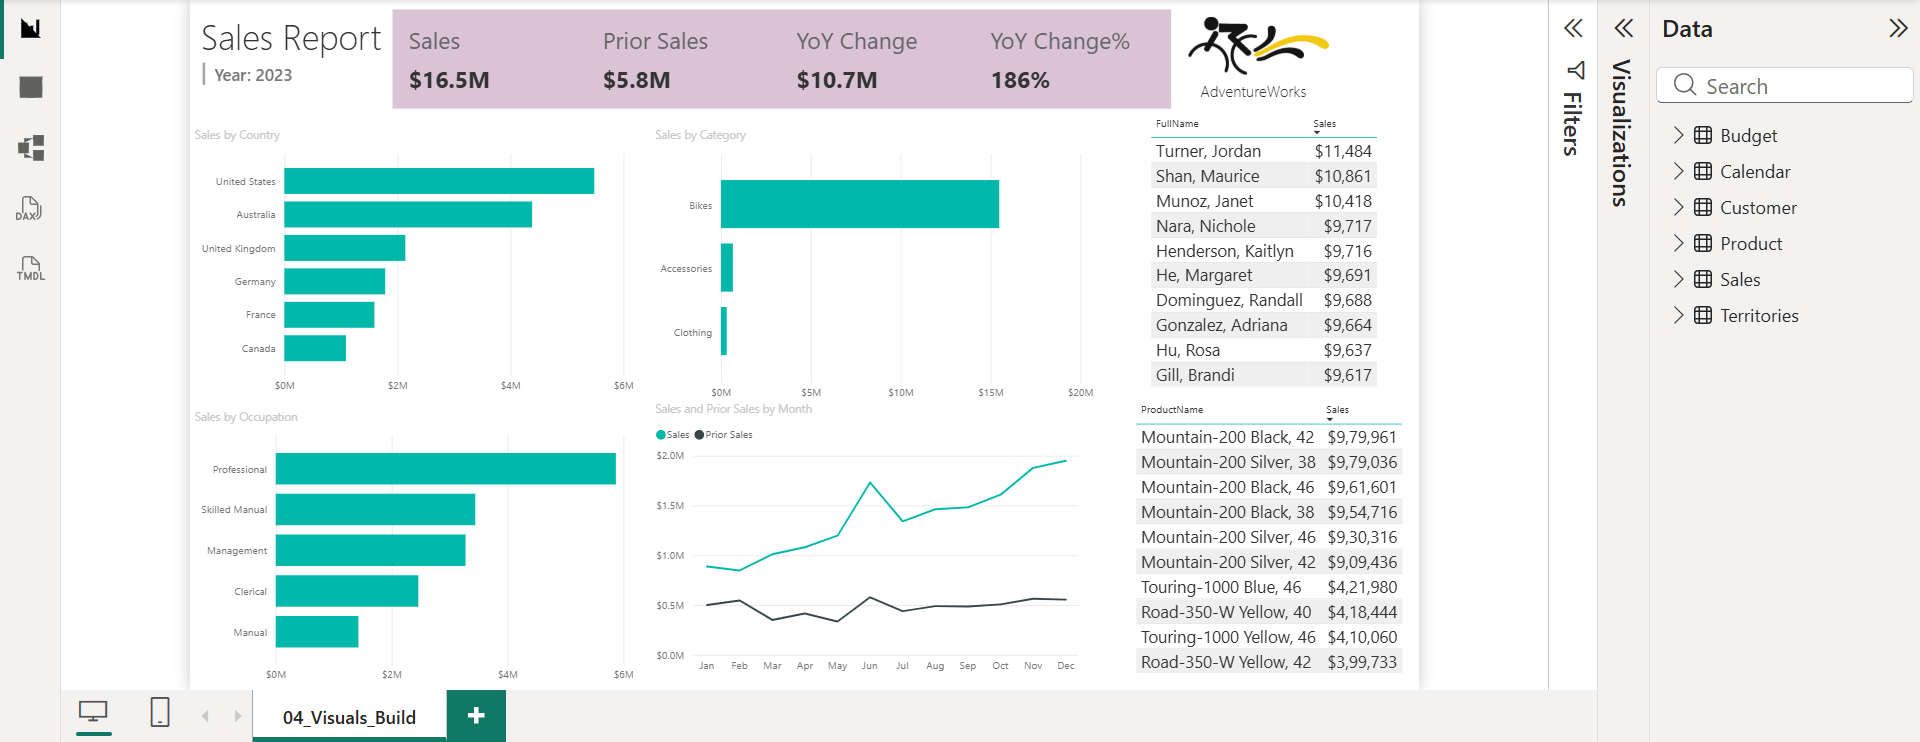

What the dashboard file says about the page in this screenshot:
{"tool":"powerbi","page":{"name":"04_Visuals_Build","canvas":[1280,720],"ordinal":0},"visuals":[{"type":"textbox","box":[6.3,9.4,234.4,79.7],"z":0},{"type":"image","box":[1026.4,10,167,80.3],"z":1000},{"type":"textbox","box":[1021.8,80.3,171.5,33.8],"z":2000},{"type":"multiRowCard","fields":{"Values":["Sales.Year Selected"]},"box":[8.2,61.1,203.4,37.4],"z":3000},{"type":"cardVisual","fields":{"Data":["Sales.Sales","Sales.Sales Prior Year","Sales.Year over Year Change","Sales.YoY Change%"]},"box":[211,10.9,811.2,103.2],"z":4001},{"type":"barChart","fields":{"Y":["Sales.Sales"],"Category":["Territories.Country"]},"box":[0,132.9,467.3,286],"z":4002},{"type":"barChart","fields":{"Y":["Sales.Sales"],"Category":["Customer.Occupation"]},"box":[0,426.7,467.3,293.8],"z":4003},{"type":"barChart","fields":{"Y":["Sales.Sales"],"Category":["Product.Category","Product.SubCategory"]},"box":[480.4,133.3,466.7,294.1],"z":4004},{"type":"lineChart","fields":{"Category":["Calendar.Month"],"Y":["Sales.Sales","Sales.Prior Sales"]},"box":[480.4,419.6,451,292.2],"z":4005},{"type":"tableEx","fields":{"Values":["Customer.FullName","Sales.Sales"]},"box":[996.1,115.7,268.6,294.1],"z":4006},{"type":"tableEx","fields":{"Values":["Product.ProductName","Sales.Sales"]},"box":[980.4,413.7,300,298],"z":4007}]}

Visuals, with their boxes on the page's 1280x720 design canvas (x1, y1, x2, y2). These are canvas units, not pixel positions in the 1920x742 screenshot, which may show the page scaled, cropped or inside an application window:
textbox: 6:9:241:89
image: 1026:10:1193:90
textbox: 1022:80:1193:114
multiRowCard - Sales.Year Selected: 8:61:212:98
cardVisual - Sales.Sales x Sales.Sales Prior Year: 211:11:1022:114
barChart - Sales.Sales x Territories.Country: 0:133:467:419
barChart - Sales.Sales x Customer.Occupation: 0:427:467:720
barChart - Sales.Sales x Product.Category: 480:133:947:427
lineChart - Calendar.Month x Sales.Sales: 480:420:931:712
tableEx - Customer.FullName x Sales.Sales: 996:116:1265:410
tableEx - Product.ProductName x Sales.Sales: 980:414:1280:712
